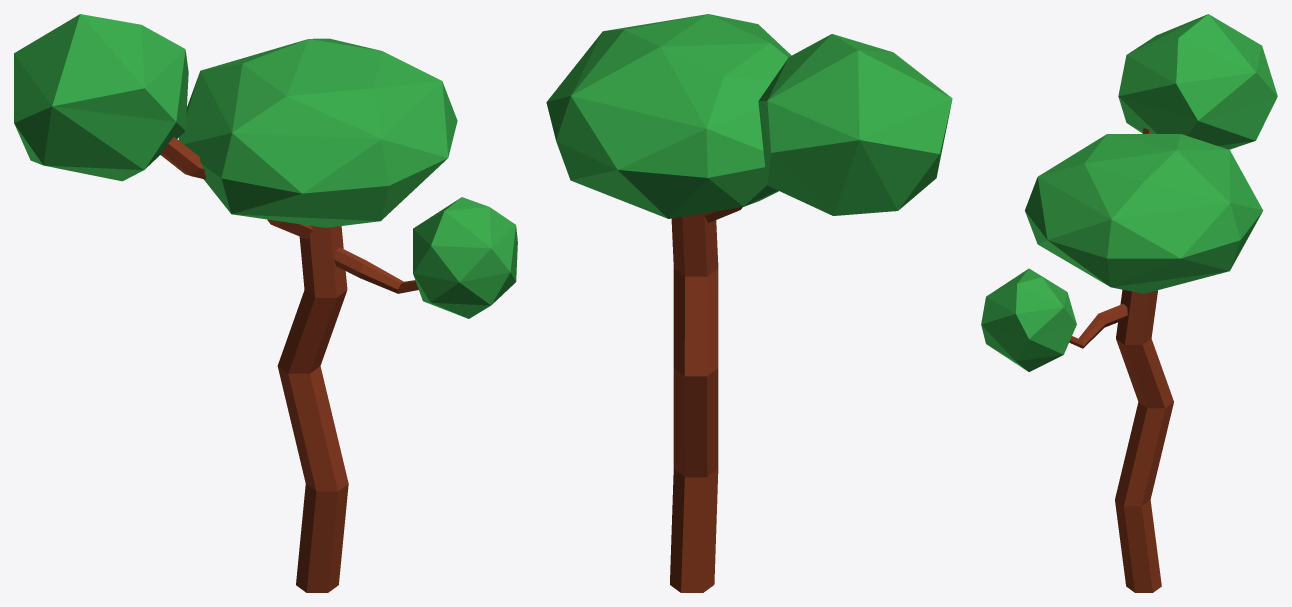
File: tree.7.fbx
The picture shows the model from 3 angles, left to right: view 1: azimuth 30°, elevation 25°; view 2: azimuth 150°, elevation 25°; view 3: azimuth 270°, elevation 25°; orthographic projection. The views are drawn at different scales.
Parts seen in each view (by area): view 1: Tree.007; view 2: Tree.007; view 3: Tree.007.
Boxes of the visible parts, x1=… form: Tree.007: x1=14, y1=14, x2=517, y2=592; Tree.007: x1=546, y1=14, x2=952, y2=592; Tree.007: x1=981, y1=14, x2=1277, y2=592.
Bounding box in the file's own units: 649 × 911 × 498.
